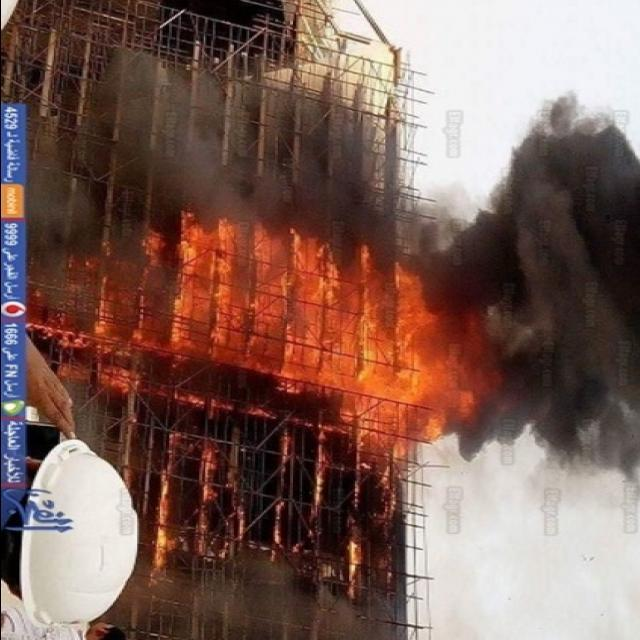Fire: (62, 222, 484, 441)
